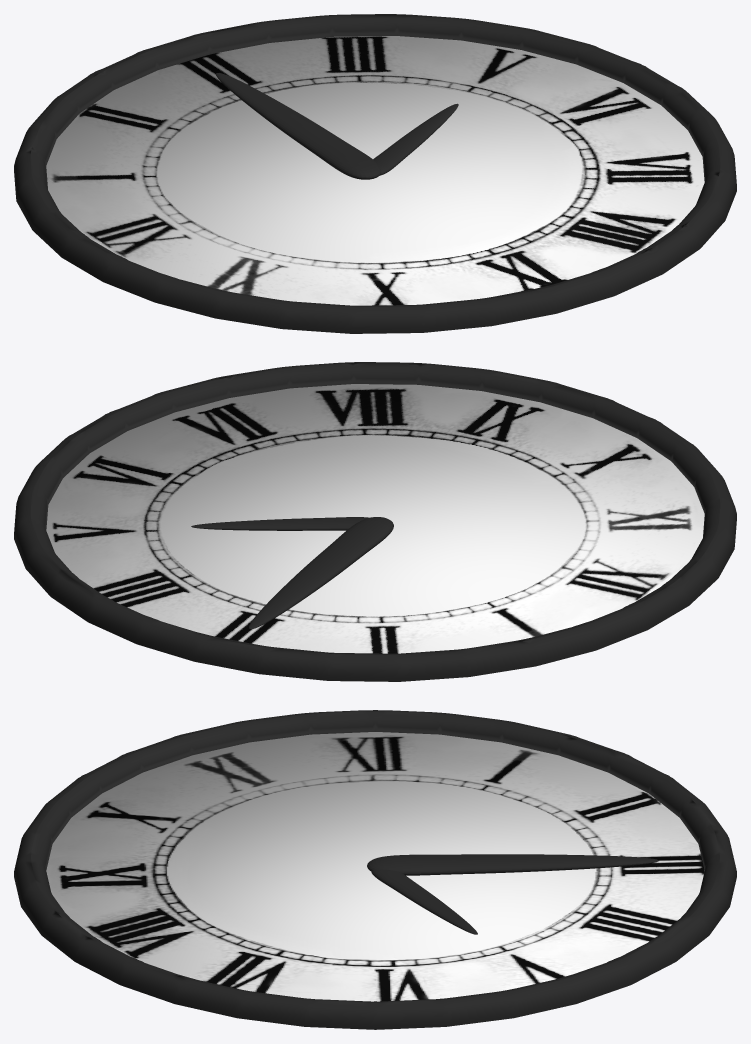
Rendered from ClockUPD.fbx.
3 renders of one model, top to bottom at view 1: azimuth 30°, elevation 25°; view 2: azimuth 150°, elevation 25°; view 3: azimuth 270°, elevation 25°, orthographic.
Visible parts, largest first — view 1: Cube.001; view 2: Cube.001; view 3: Cube.001.
Part boxes in pixels (box(x1,y1,x2,y2)): Cube.001: box(14, 14, 736, 333); Cube.001: box(14, 362, 736, 681); Cube.001: box(14, 710, 736, 1029).
Bounding box in the file's own units: 519 × 15.74 × 519.
2 materials, 1 textured.
